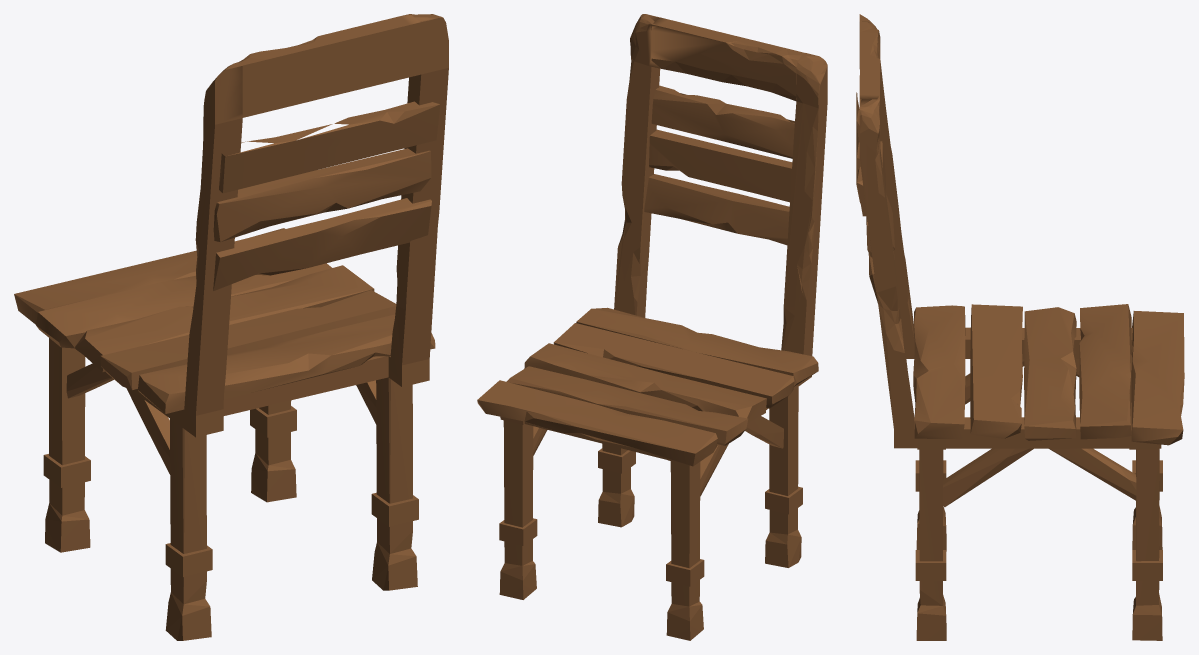
File: chair.glb
The picture shows the model from 3 angles, left to right: view 1: azimuth 30°, elevation 25°; view 2: azimuth 150°, elevation 25°; view 3: azimuth 270°, elevation 25°; orthographic projection. The views are drawn at different scales.
Visible parts, largest first — view 1: Chair (3); view 2: Chair (3); view 3: Chair (3).
Boxes of the visible parts, bbox=[...] form: Chair (3): bbox=[14, 14, 448, 640]; Chair (3): bbox=[477, 14, 827, 640]; Chair (3): bbox=[856, 14, 1184, 640].
Bounding box in the file's own units: 1.18 × 2.39 × 1.34.
